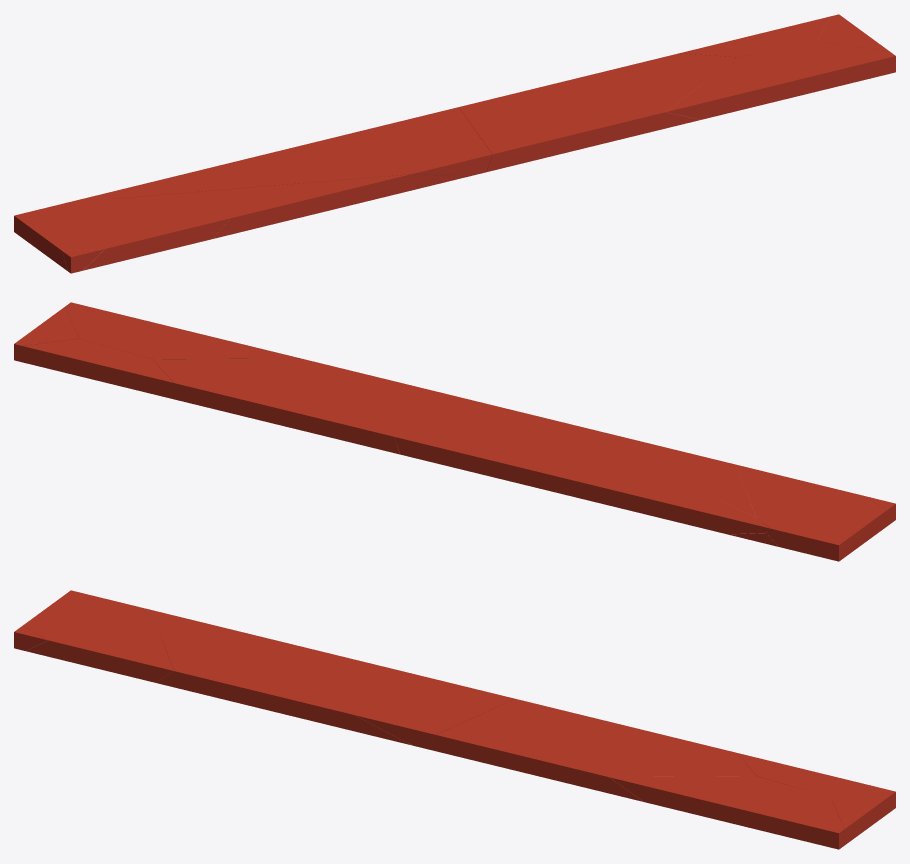
Rendered from HangingShelf_DEST.fbx.
3 views of the same model, one above another, from view 1: azimuth 30°, elevation 25°; view 2: azimuth 150°, elevation 25°; view 3: azimuth 330°, elevation 25° (orthographic).
Parts seen in each view (by area): view 1: polySurface88_cell.005, polySurface88_cell.004, polySurface88_cell, polySurface88_cell.003, polySurface88_cell.002, polySurface88_cell.007, polySurface88_cell.001, polySurface88_cell.006; view 2: polySurface88_cell.004, polySurface88_cell.005, polySurface88_cell, polySurface88_cell.003, polySurface88_cell.002, polySurface88_cell.007, polySurface88_cell.001; view 3: polySurface88_cell.005, polySurface88_cell.004, polySurface88_cell.003, polySurface88_cell, polySurface88_cell.002, polySurface88_cell.007, polySurface88_cell.001, polySurface88_cell.006.
Boxes of the visible parts, x1,y1,x2,y2 form: polySurface88_cell.005: (458,53,737,171); polySurface88_cell.004: (83,107,492,198); polySurface88_cell: (14,199,230,270); polySurface88_cell.003: (666,41,895,119); polySurface88_cell.002: (111,174,468,238); polySurface88_cell.007: (680,16,830,57); polySurface88_cell.001: (817,14,889,51); polySurface88_cell.006: (62,249,104,273); polySurface88_cell.004: (394,401,770,534); polySurface88_cell.005: (153,358,473,454); polySurface88_cell: (736,464,892,561); polySurface88_cell.003: (65,302,300,359); polySurface88_cell.002: (556,420,778,546); polySurface88_cell.007: (14,338,173,396); polySurface88_cell.001: (14,307,79,353); polySurface88_cell.005: (430,699,756,801); polySurface88_cell.004: (139,607,515,749); polySurface88_cell.003: (609,776,844,849); polySurface88_cell: (23,590,173,682); polySurface88_cell.002: (153,617,411,745); polySurface88_cell.007: (736,752,895,809); polySurface88_cell.001: (830,789,895,845); polySurface88_cell.006: (14,625,47,650).
Size of the model in its own units: 10.23 by 0.194 by 1.22.
